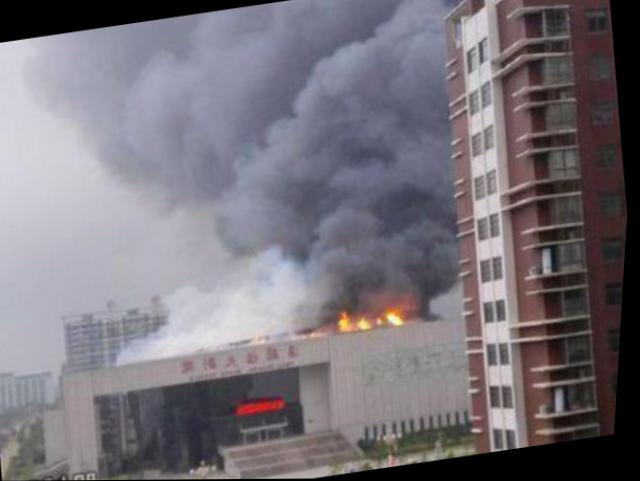fire: (340, 311, 378, 335), (388, 309, 412, 326)
